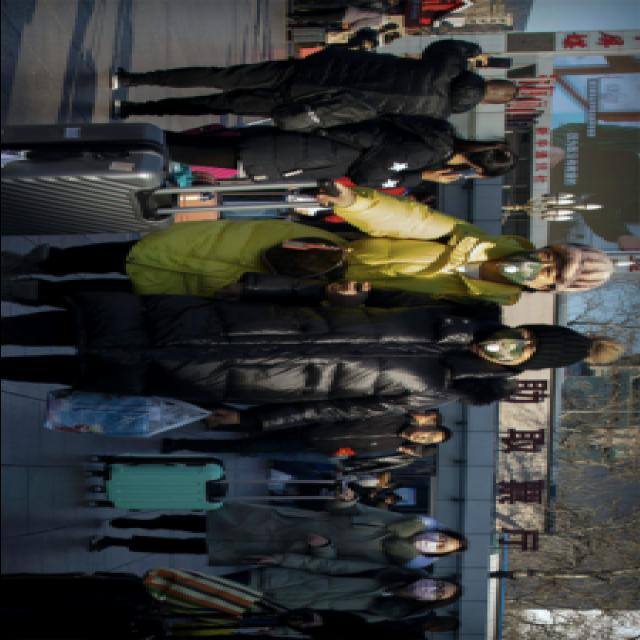mask: (498, 246, 560, 286), (478, 328, 544, 363), (412, 530, 452, 552), (410, 578, 450, 600)
no_mask: (406, 426, 438, 444)
